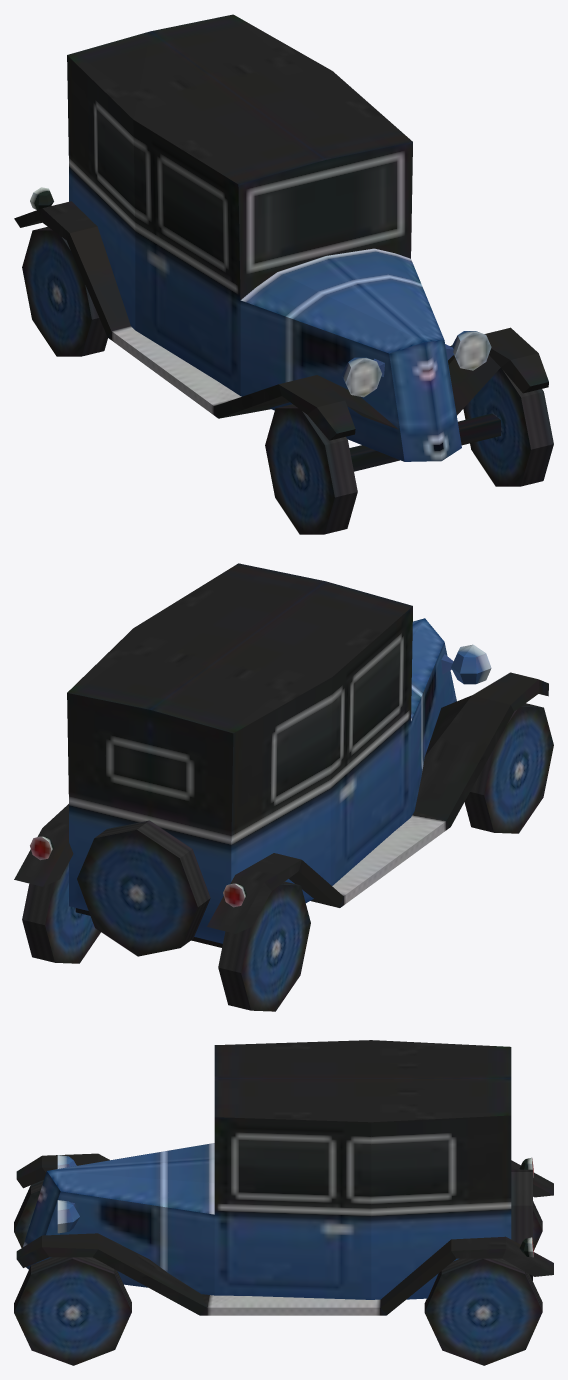
The model's file is old.glb.
3 views of the same model, one above another, from view 1: azimuth 30°, elevation 25°; view 2: azimuth 150°, elevation 25°; view 3: azimuth 270°, elevation 25° (orthographic). The views are drawn at different scales.
Parts seen in each view (by area): view 1: Car7; view 2: Car7; view 3: Car7.
Boxes of the visible parts, box(x1,y1,x2,y2) form: Car7: box(14, 14, 553, 534); Car7: box(14, 563, 553, 1011); Car7: box(14, 1040, 553, 1365).
Size of the model in its own units: 2.43 by 2.86 by 5.78.
1 material, 1 textured.
